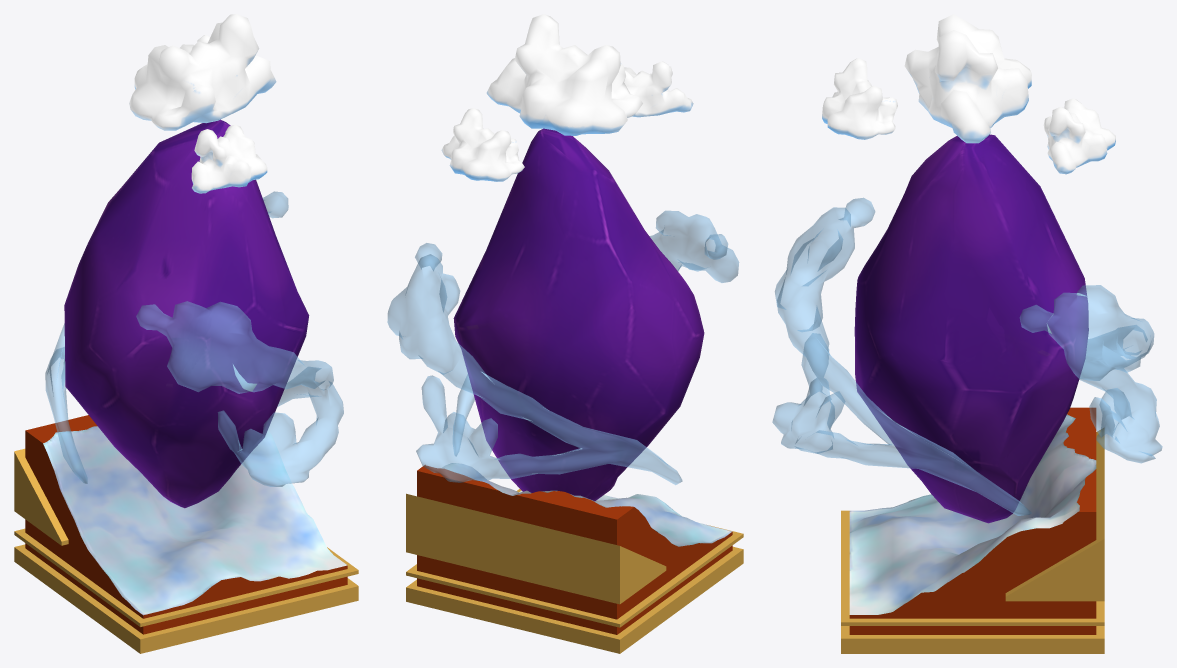
Rendered from JadeArdinals_664.glb.
The picture shows the model from 3 angles, left to right: view 1: azimuth 30°, elevation 25°; view 2: azimuth 150°, elevation 25°; view 3: azimuth 270°, elevation 25°; orthographic projection. The views are drawn at different scales.
Visible parts, largest first — view 1: purple, snow, LiquidBlue, Cloud; view 2: purple, snow, LiquidBlue, Cloud; view 3: purple, snow, LiquidBlue, Cloud.
Part boxes in pixels (x1,y1,x2,y2): purple: (64, 119, 309, 508); snow: (14, 415, 358, 653); LiquidBlue: (45, 191, 343, 486); Cloud: (129, 14, 276, 193); purple: (453, 128, 704, 501); snow: (406, 463, 743, 653); LiquidBlue: (387, 210, 739, 484); Cloud: (441, 14, 693, 181); purple: (854, 134, 1088, 523); snow: (841, 407, 1104, 653); LiquidBlue: (772, 197, 1162, 515); Cloud: (822, 14, 1115, 174).
Size of the model in its own units: 2.41 by 5.27 by 3.17.
8 materials, 3 textured.
